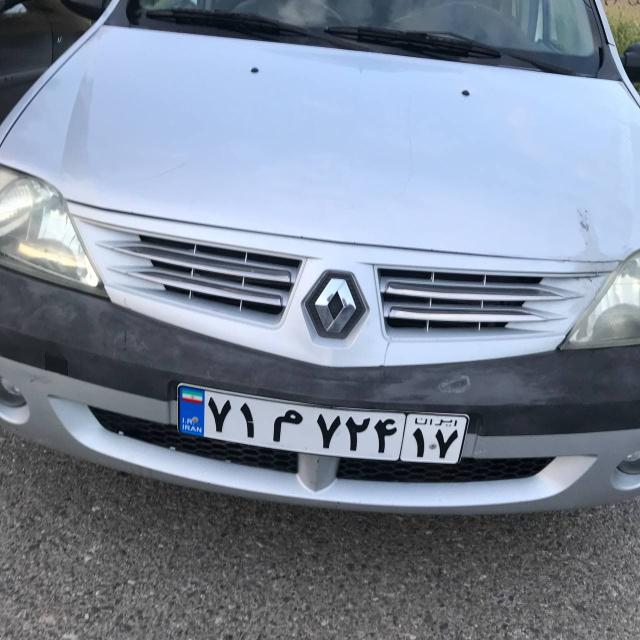Plates: (175, 385, 468, 466)
